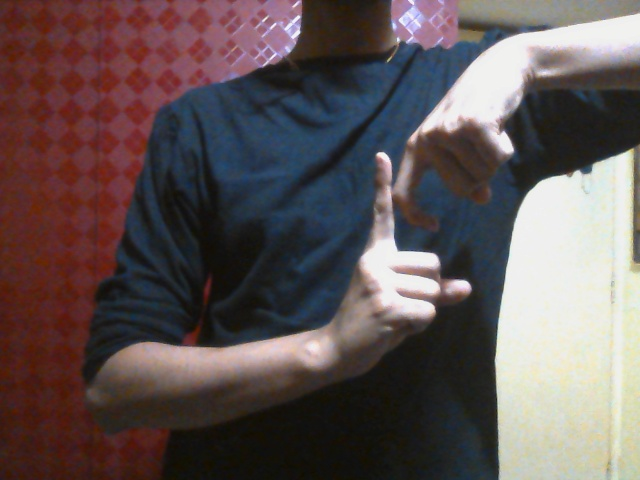K: (334, 108, 497, 381)
